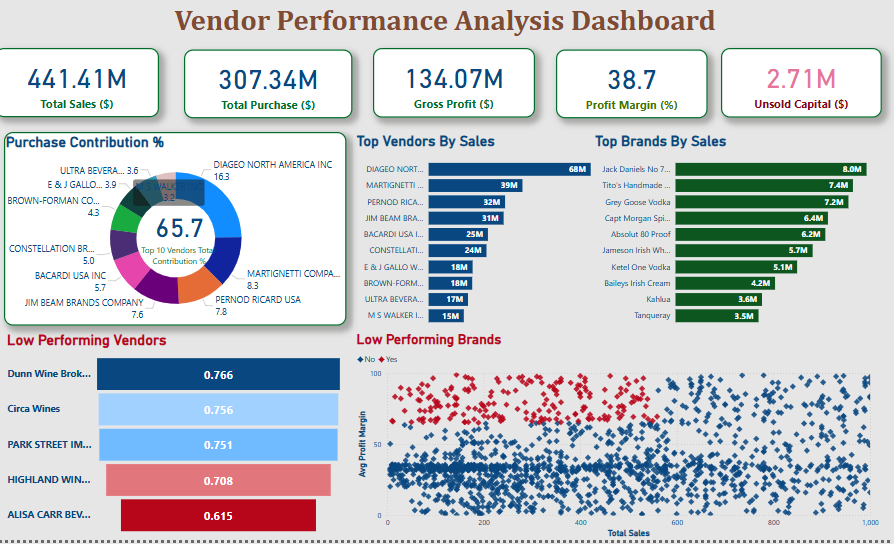

Layout of this report page (visuals, bound fields, positions):
{"tool":"powerbi","page":{"name":"Page 1","canvas":[1500,900],"ordinal":0},"visuals":[{"type":"card","fields":{"Values":["Sum(vendor_sales_summary.TotalPurchaseDollars)"]},"box":[315.8,82.4,280.9,114.6],"z":0},{"type":"card","fields":{"Values":["Sum(vendor_sales_summary.TotalSalesDollars)"]},"box":[0,81,273.2,115.4],"z":1000},{"type":"card","fields":{"Values":["Sum(vendor_sales_summary.GrossProfit)"]},"box":[630.2,81,269.7,116],"z":2000},{"type":"card","fields":{"Values":["Avg(vendor_sales_summary.ProfitMargin)"]},"box":[934.8,82.4,252.9,114.6],"z":3000},{"type":"card","fields":{"Values":["Sum(vendor_sales_summary.UnsoldCapital)"]},"box":[1210.1,81,268.3,116],"z":4000},{"type":"textbox","box":[0,0,1500,83],"z":5000},{"type":"donutChart","title":"Purchase Contribution % ","fields":{"Category":["PurchaseContribution.VendorName"],"Y":["Sum(PurchaseContribution.PurchaseContribution%)"]},"box":[14.5,219.4,571,322.6],"z":6000},{"type":"card","fields":{"Values":["Sum(PurchaseContribution.PurchaseContribution%)"]},"box":[211.8,266.7,188.2,233.3],"z":7000},{"type":"barChart","title":"Top Vendors By Sales","fields":{"Category":["vendor_sales_summary.VendorName"],"Y":["Sum(vendor_sales_summary.TotalSalesDollars)"]},"box":[597.3,219.2,447.9,332.9],"z":8000},{"type":"barChart","title":"Top Brands By Sales","fields":{"Category":["vendor_sales_summary.Description"],"Y":["Sum(vendor_sales_summary.TotalSalesDollars)"]},"box":[995.9,219.2,504.1,332.9],"z":9000},{"type":"funnel","title":"Low Performing Vendors","fields":{"Category":["LowTurnoverVendor.VendorName"],"Y":["Avg(LowTurnoverVendor.AvgStockTurnOver)"]},"box":[16.1,551.6,569.4,348.4],"z":10000},{"type":"scatterChart","title":"Low Performing Brands","fields":{"X":["Sum(BrandPerformance.TotalSales)"],"Y":["Sum(BrandPerformance.AvgProfitMargin)"],"Series":["BrandPerformance.TargetBrand"],"Category":["BrandPerformance.Description"]},"box":[596.8,551.6,880.6,348.4],"z":11000}]}

Visuals, with their boxes in screenshot pixels (x1, y1, x2, y2), scaled from the page's 1500x900 canvas onto the 894x544 screenshot:
card - Sum(vendor_sales_summary.TotalPurchaseDollars): bbox=[188, 50, 356, 119]
card - Sum(vendor_sales_summary.TotalSalesDollars): bbox=[0, 49, 163, 119]
card - Sum(vendor_sales_summary.GrossProfit): bbox=[376, 49, 536, 119]
card - Avg(vendor_sales_summary.ProfitMargin): bbox=[557, 50, 708, 119]
card - Sum(vendor_sales_summary.UnsoldCapital): bbox=[721, 49, 881, 119]
textbox: bbox=[0, 0, 893, 50]
"Purchase Contribution % " donutChart: bbox=[9, 133, 349, 328]
card - Sum(PurchaseContribution.PurchaseContribution%): bbox=[126, 161, 238, 302]
"Top Vendors By Sales" barChart: bbox=[356, 132, 623, 334]
"Top Brands By Sales" barChart: bbox=[594, 132, 893, 334]
"Low Performing Vendors" funnel: bbox=[10, 333, 349, 543]
"Low Performing Brands" scatterChart: bbox=[356, 333, 881, 543]
